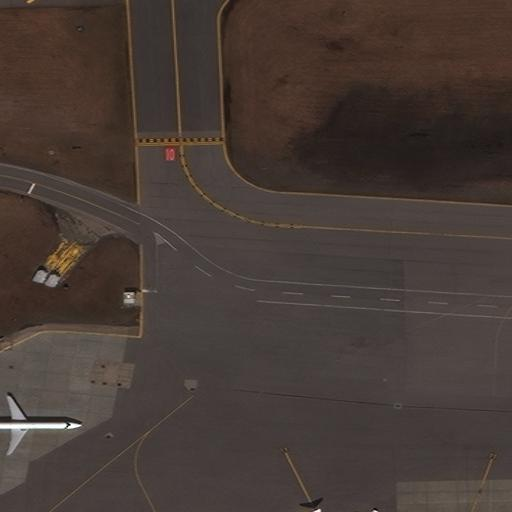Medium Civil Transport: (0, 396, 81, 455)
